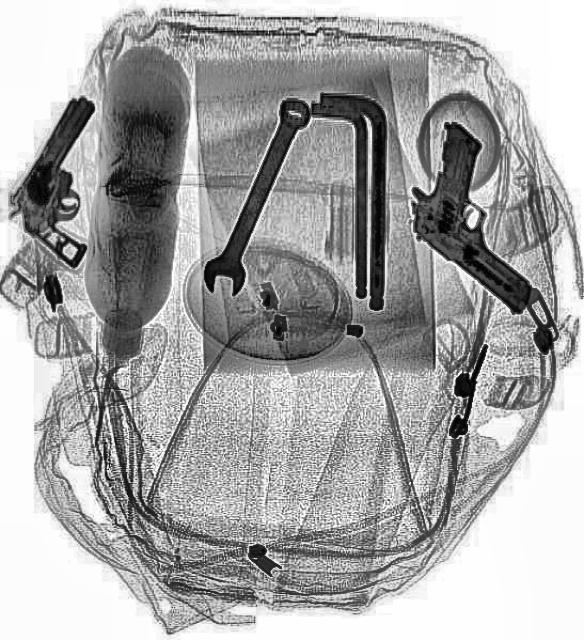Gun: (0, 89, 154, 261), (410, 120, 530, 316)
Wrench: (196, 89, 318, 299)
